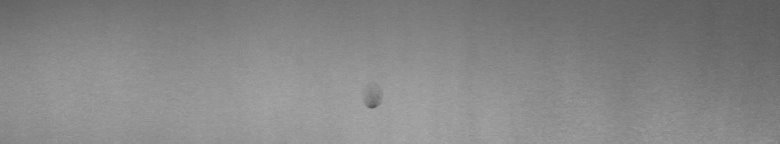fi: (364, 95, 383, 116)
